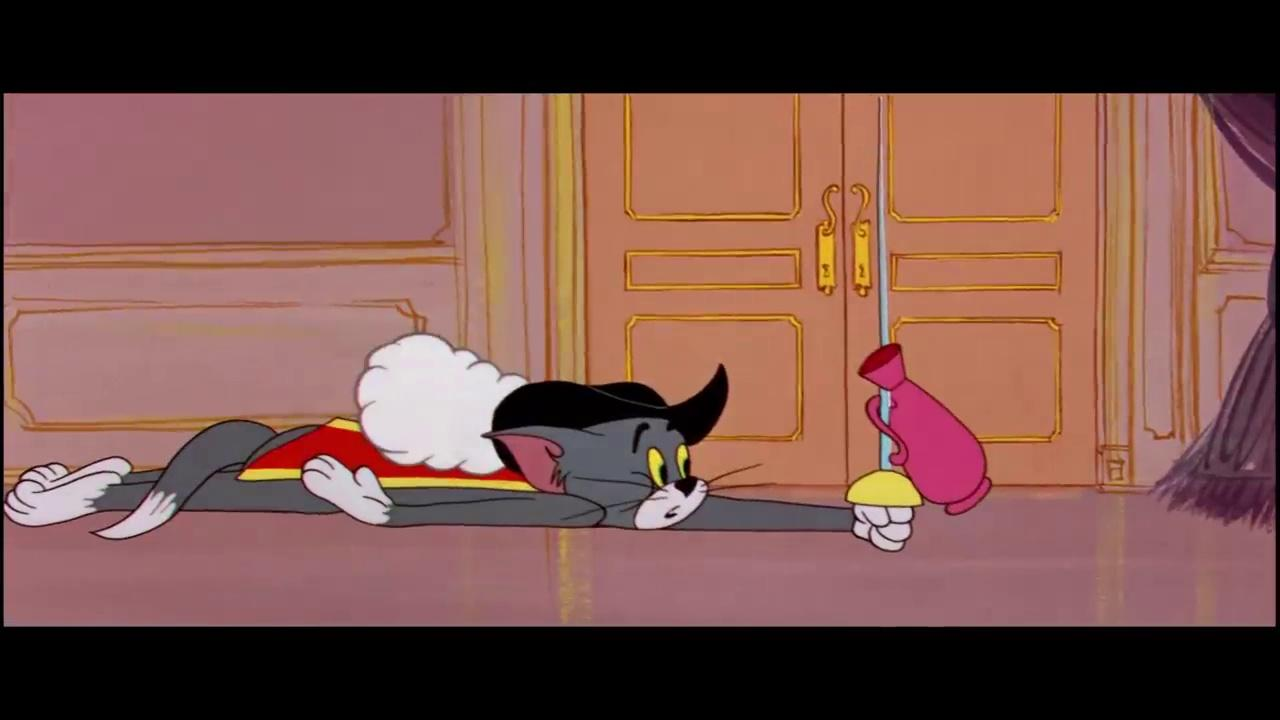Tom: (4, 412, 915, 553)
